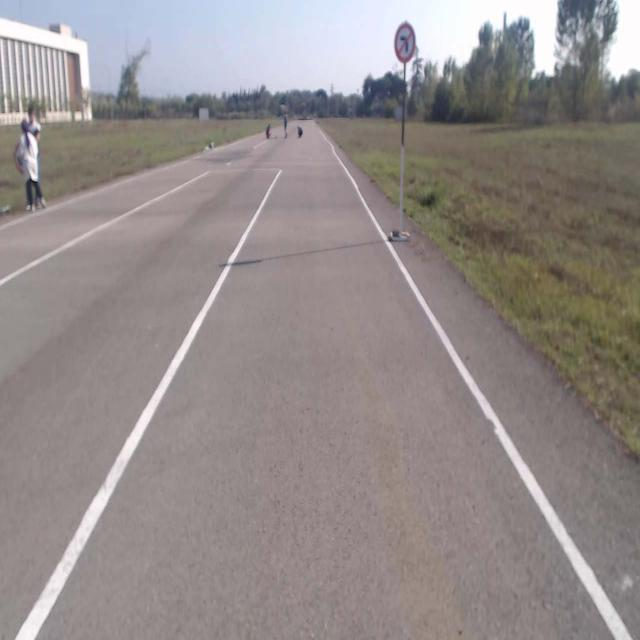soladonulmez: (395, 22, 415, 62)
